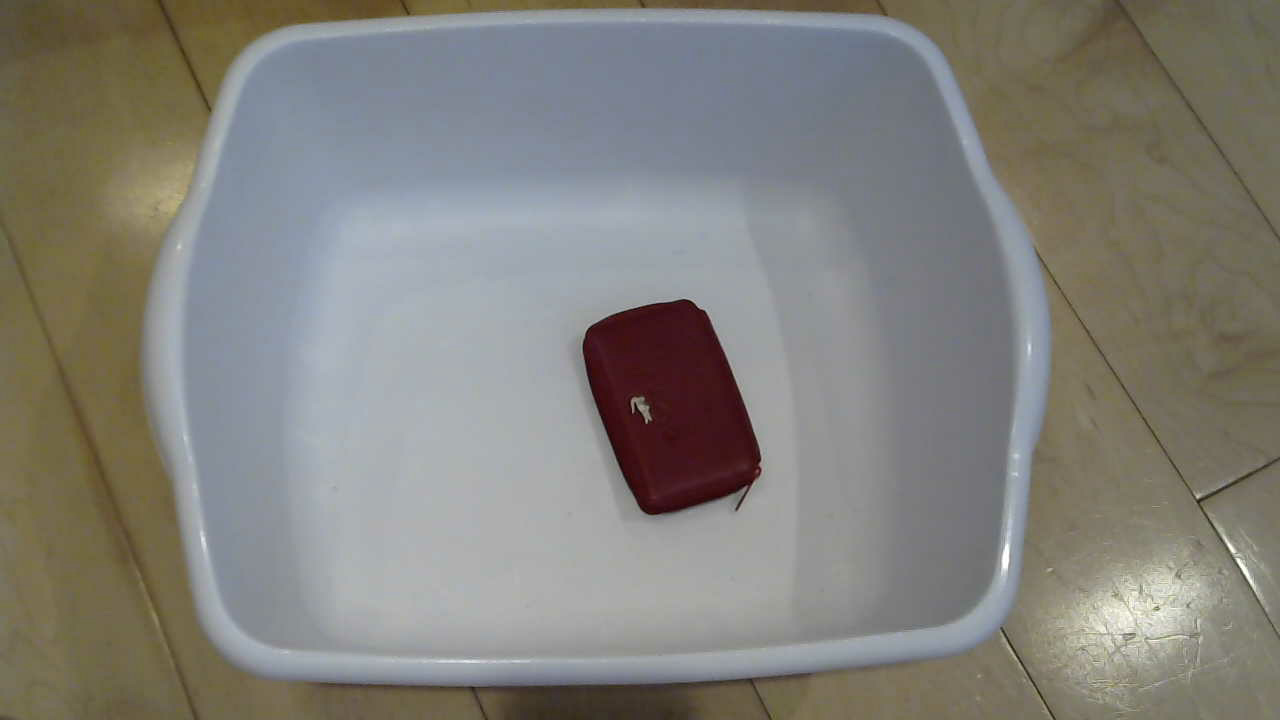wallet: (554, 298, 790, 538)
